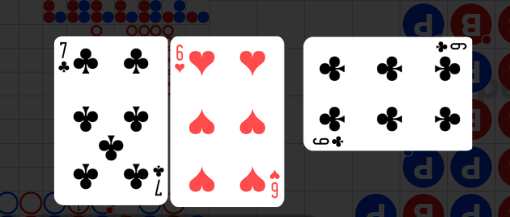6C: (433, 40, 468, 54)
6H: (268, 168, 281, 200)
7C: (151, 163, 165, 198)
